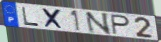1: (70, 10, 82, 33)
2: (133, 16, 154, 40)
L: (20, 6, 41, 27)
N: (84, 12, 112, 36)
P: (110, 13, 132, 36)
X: (41, 7, 66, 31)
